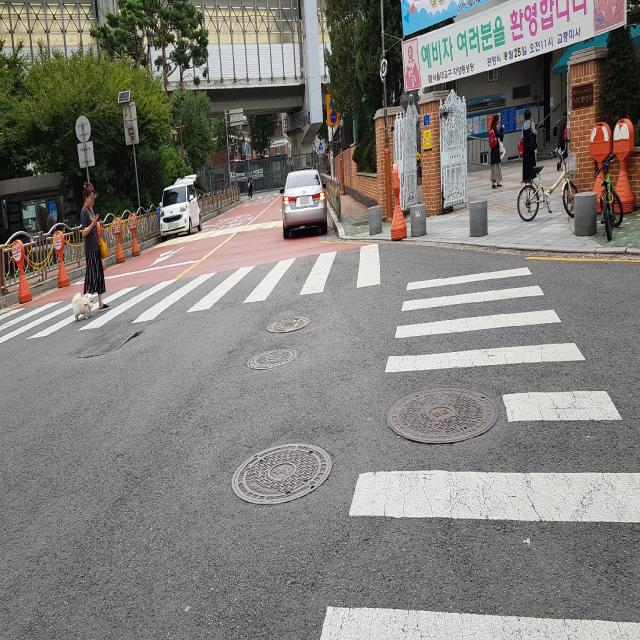횡단보도: (319, 265, 640, 640), (0, 225, 388, 344)
